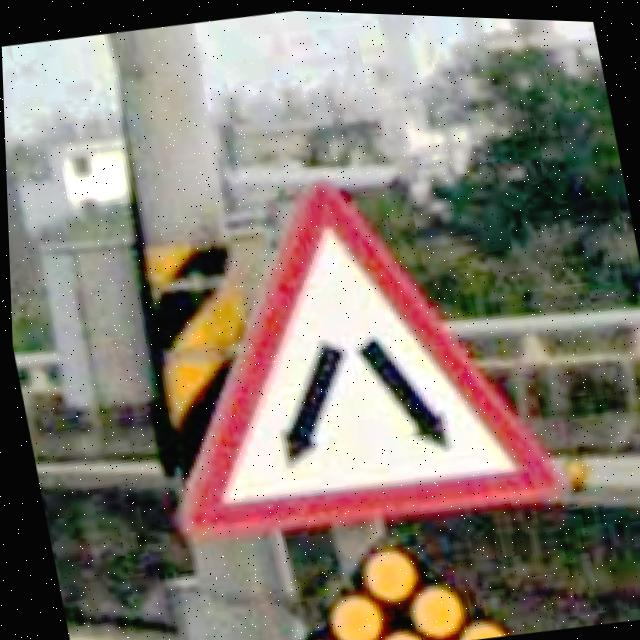diverge: (109, 136, 572, 562)
